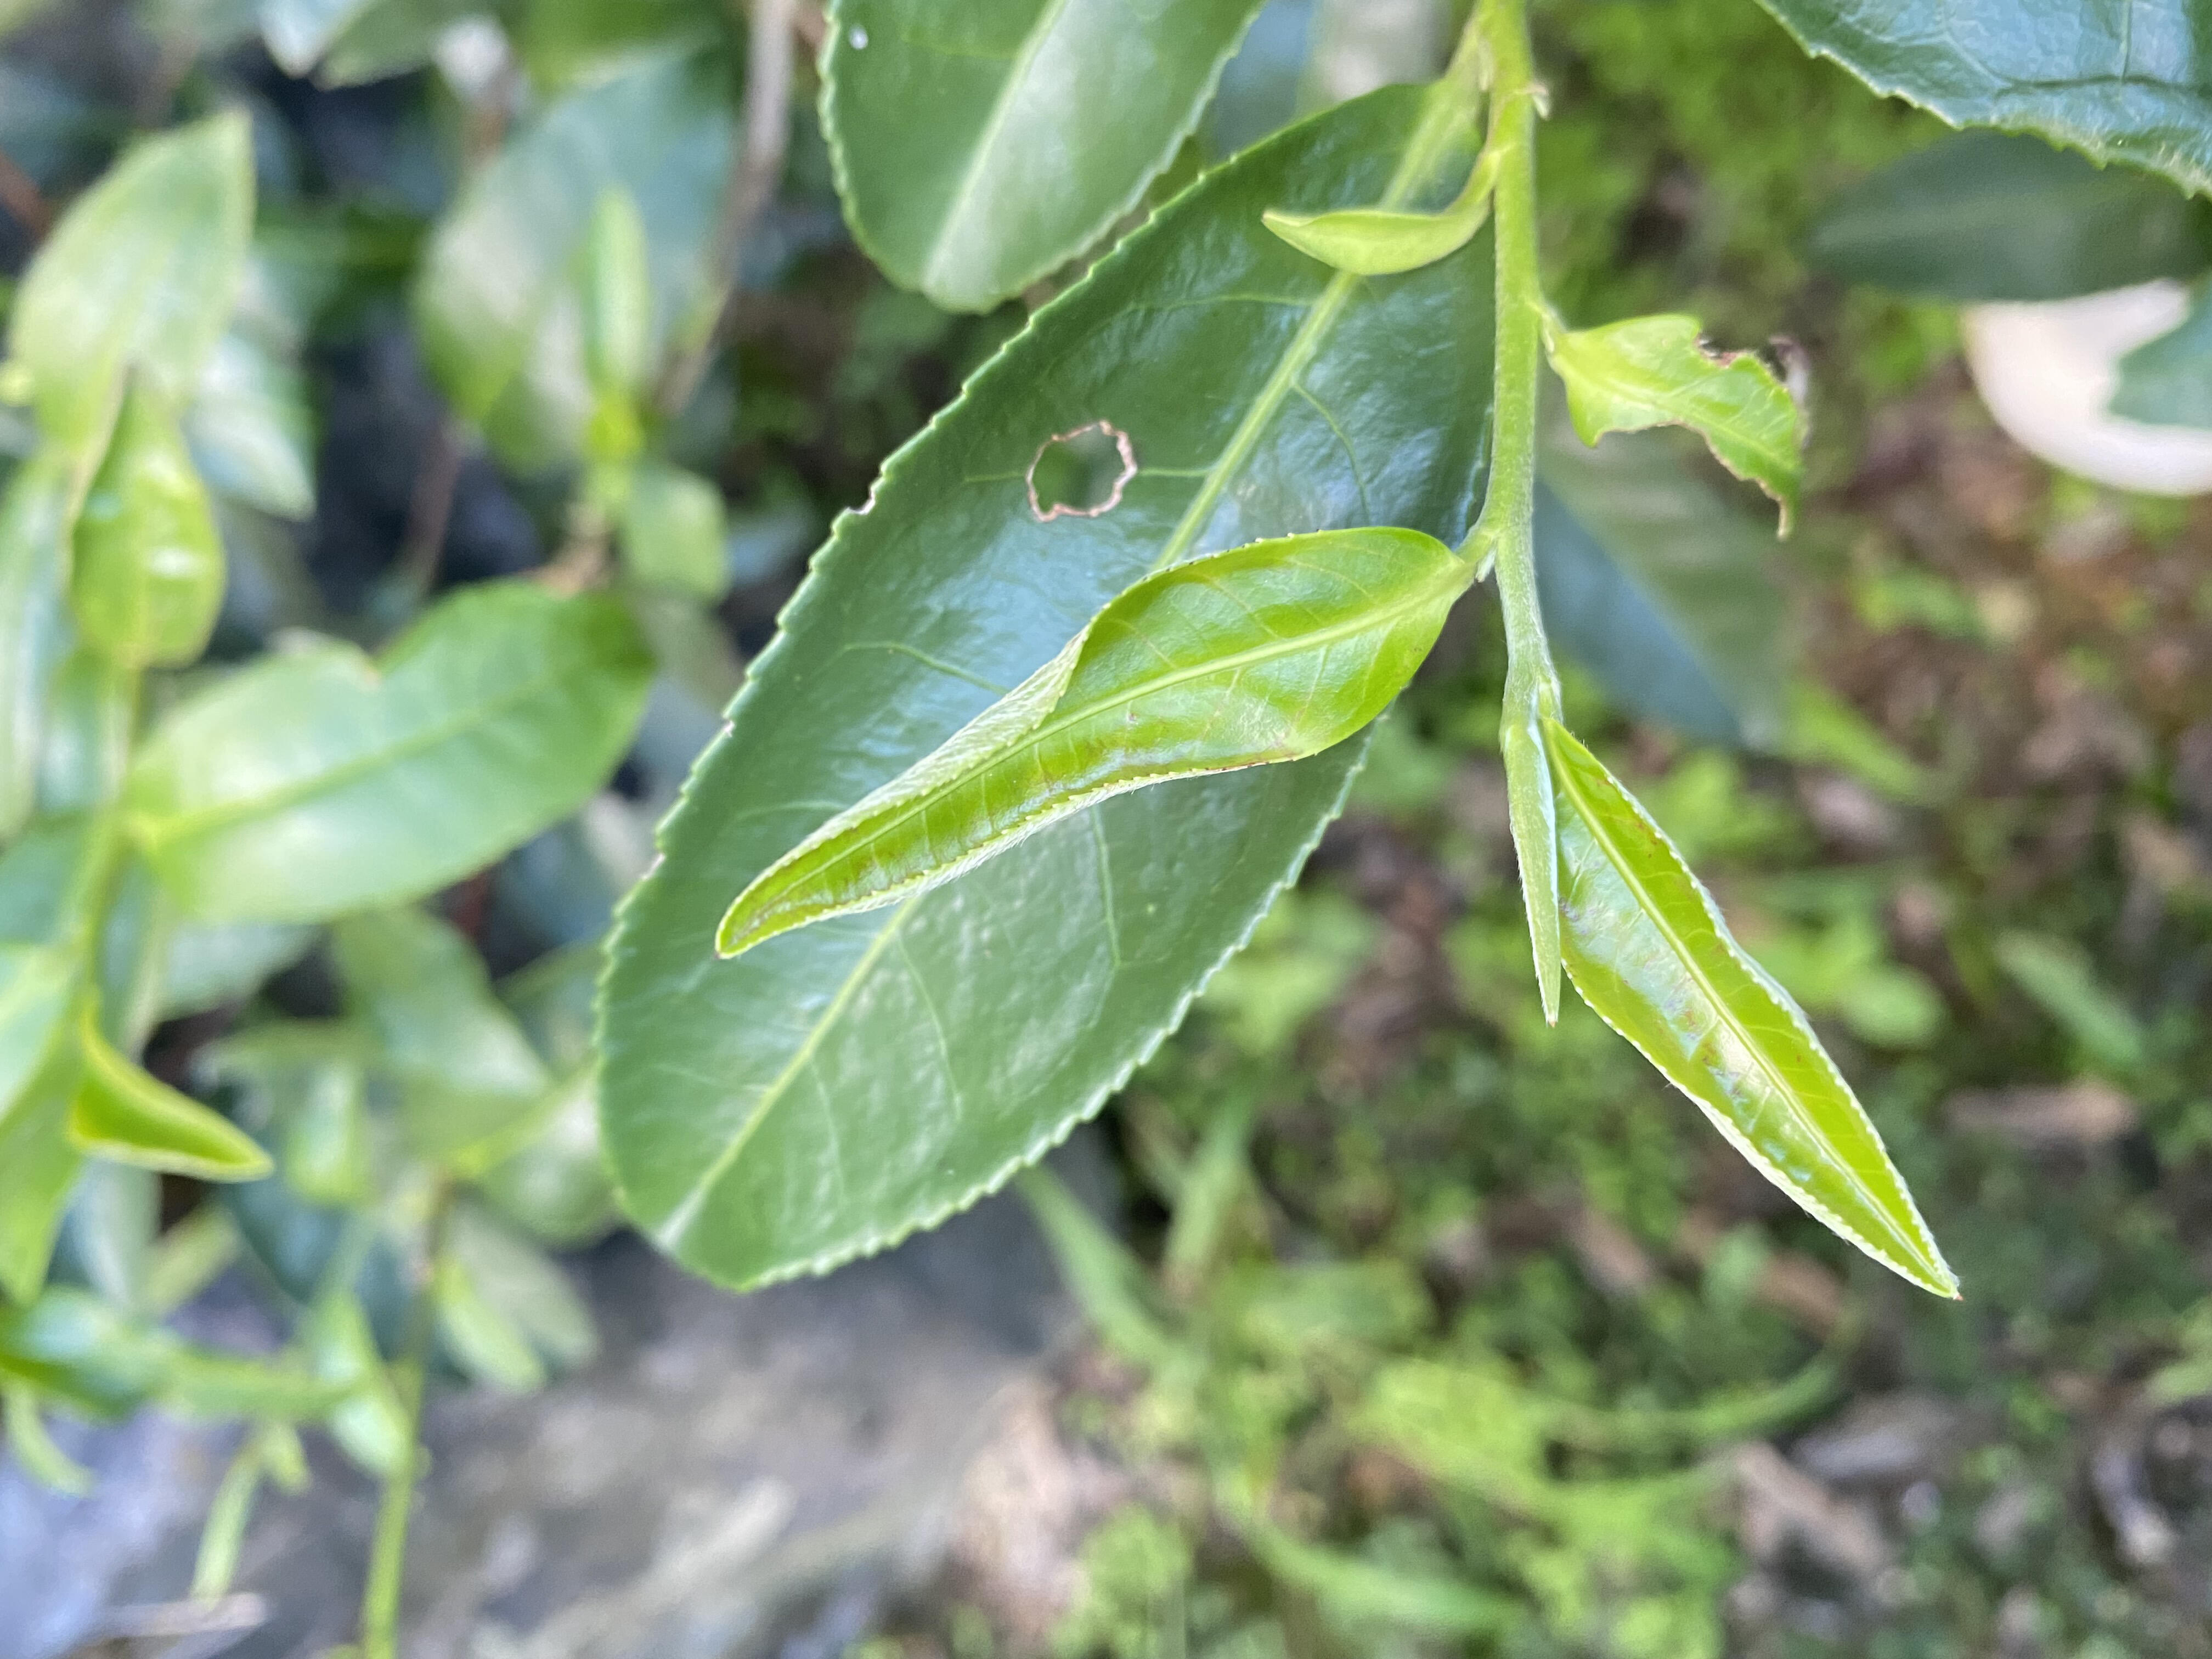chihuo_high: (1554, 310, 1810, 545)
chihuo_low: (592, 84, 1493, 1300)
tanju_low: (712, 528, 1460, 962), (1533, 728, 1961, 1300)
